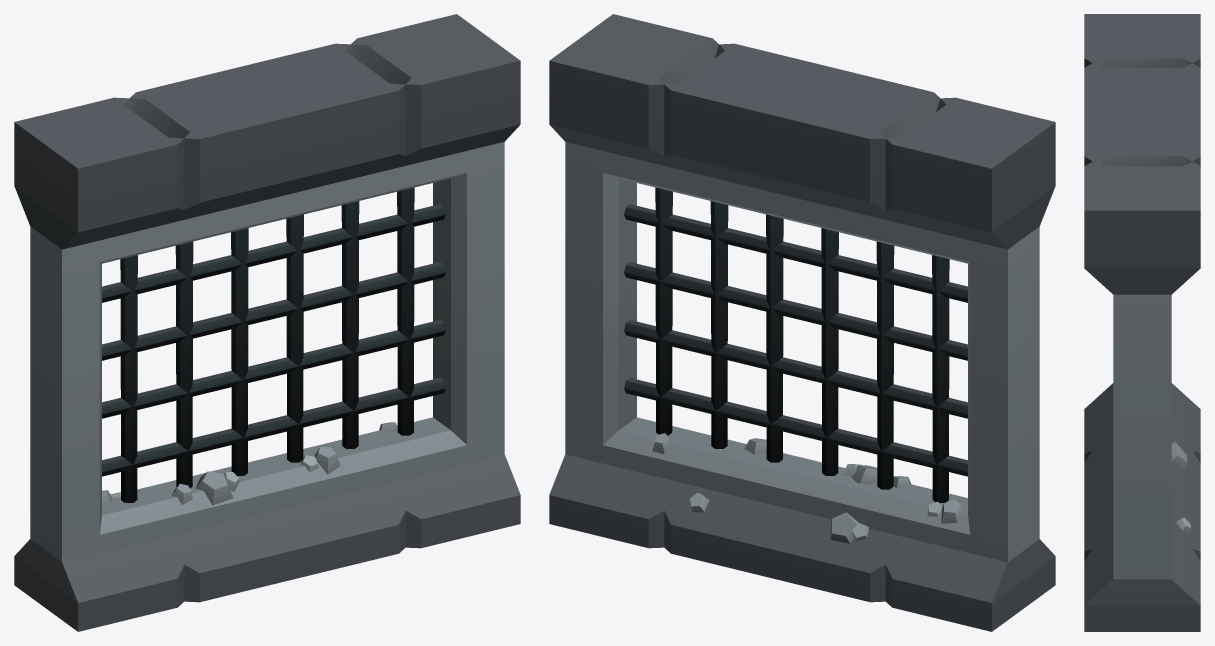
Rendered from wall_gated.glb.
3 views of the same model, side by side, from view 1: azimuth 30°, elevation 25°; view 2: azimuth 150°, elevation 25°; view 3: azimuth 270°, elevation 25° (orthographic). The views are drawn at different scales.
Visible parts, largest first — view 1: wall_gated; view 2: wall_gated; view 3: wall_gated.
Part boxes in pixels (<box>): wall_gated: <box>14,14,520,631</box>; wall_gated: <box>549,14,1055,631</box>; wall_gated: <box>1084,14,1200,631</box>.
Size of the model in its own units: 4 by 4 by 1.
Materials: 1 (1 with a texture image).
